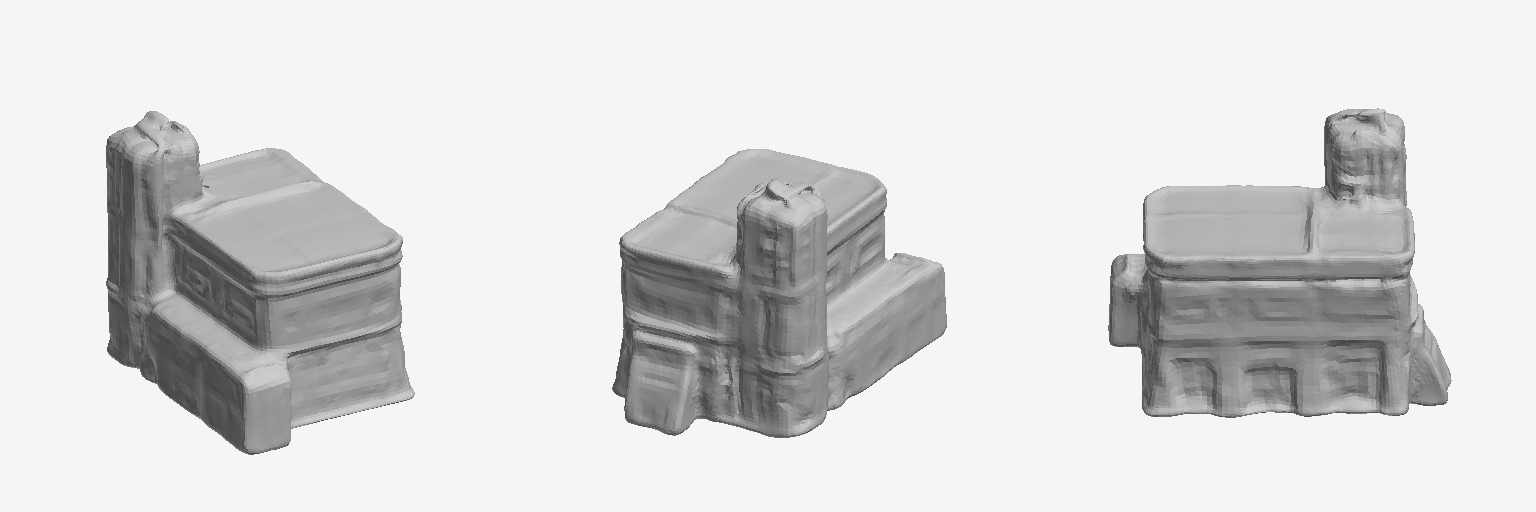
The model's file is 8b34022d7fe0_sci_fi_industrial_b.obj.
3 renders of one model, left to right at view 1: azimuth 30°, elevation 25°; view 2: azimuth 150°, elevation 25°; view 3: azimuth 270°, elevation 25°, orthographic.
Visible parts, largest first — view 1: mesh; view 2: mesh; view 3: mesh.
Boxes of the visible parts, <box> form: mesh: <box>106,111,414,454</box>; mesh: <box>612,149,946,437</box>; mesh: <box>1108,108,1451,417</box>.
Size of the model in its own units: 0.6537 by 0.7797 by 0.9979.